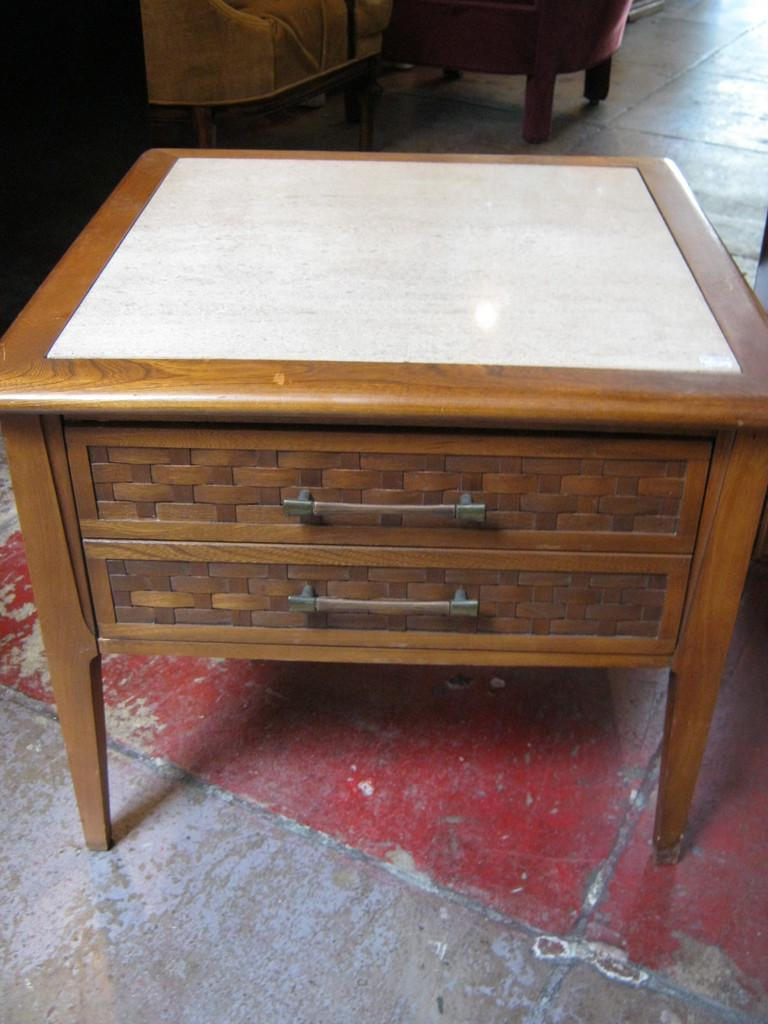cabinet_door: (67, 425, 698, 552), (66, 543, 686, 653)
handle: (279, 583, 482, 640), (290, 488, 482, 543)
